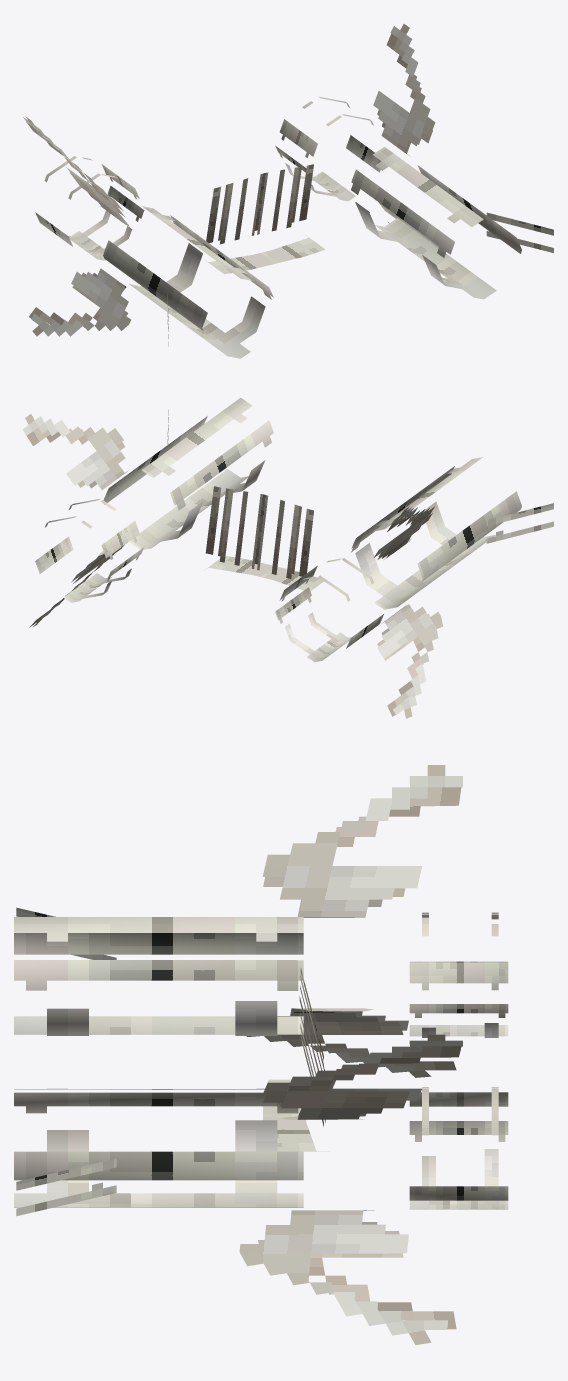
The model's file is awing_engine_s02_l2.fbx.
The picture shows the model from 3 angles, top to bottom: view 1: azimuth 30°, elevation 25°; view 2: azimuth 150°, elevation 25°; view 3: azimuth 270°, elevation 25°; orthographic projection. The views are drawn at different scales.
Visible parts, largest first — view 1: mesh_node; view 2: mesh_node; view 3: mesh_node.
Part boxes in pixels (x1,y1,x2,y2): mesh_node: [23, 24, 553, 358]; mesh_node: [23, 397, 553, 718]; mesh_node: [14, 765, 508, 1345].
Bounding box in the file's own units: 7.85 × 4.36 × 6.45.
1 material, 1 textured.
